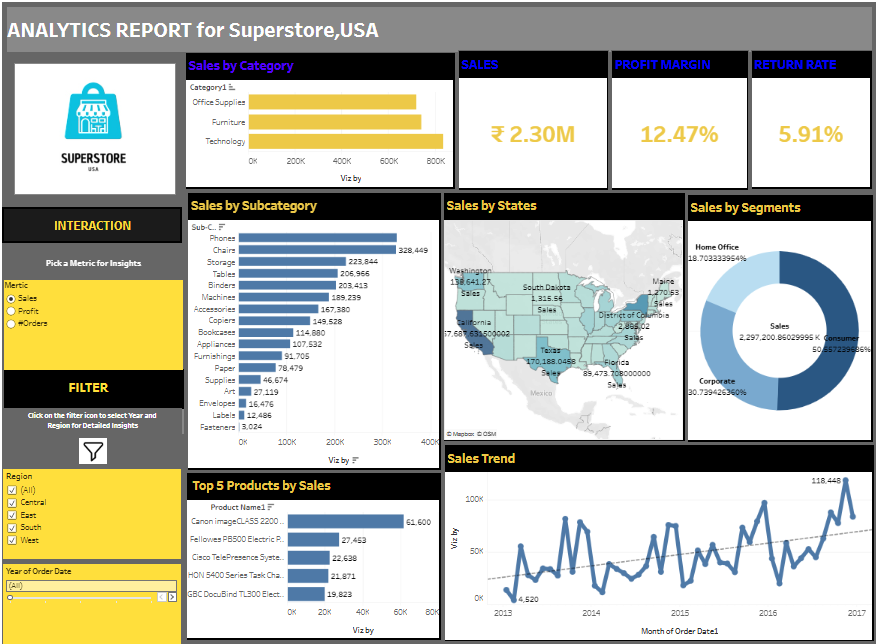

The dashboard page shown, as its layout file describes it:
{"tool":"tableau","page":{"name":"Superstore Dashboard","canvas":[1800,1200],"ordinal":1},"visuals":[{"type":"title","box":[53,28,1686,61]},{"type":"image","param":"Image/sakshi.PNG","box":[52,89,295,251]},{"type":"worksheet","title":"Sales by Category","mark":"Automatic","rows":["Category"],"cols":["Calculation_633037265075949571"],"box":[347,89,562,253]},{"type":"worksheet","title":"SALES","mark":"Automatic","box":[909,89,294,252]},{"type":"worksheet","title":"PROFIT MARGIN","mark":"Automatic","box":[1202,89,276,253]},{"type":"worksheet","title":"RETURN RATE","mark":"Automatic","box":[1477,89,261,253]},{"type":"text","box":[53,339,293,60]},{"type":"worksheet","title":"Sales by States","mark":"Automatic","box":[909,341,459,400]},{"type":"worksheet","title":"Sales by Segments","mark":"Pie","rows":["Calculation_51791438540623873","Calculation_51791438540718083"],"box":[1369,341,370,398]},{"type":"worksheet","title":"Sales by Subcategory","mark":"Automatic","rows":["Sub-Category"],"cols":["Calculation_633037265075949571"],"box":[346,342,564,470]},{"type":"text","box":[93,409,216,30]},{"type":"parameter","param":"[Parameters].[Parameter 7]","box":[53,457,292,143]},{"type":"text","box":[142,610,100,34]},{"type":"text","box":[54,663,293,37]},{"type":"dashboard-object","box":[174,702,46,30]},{"type":"filter","title":"Sales by Category","param":"[federated.1ujmcu00z8qgeg1dgngzl0v71cfd].[none:Region:nk]","box":[51,738,296,162]},{"type":"worksheet","title":"Sales Trend","mark":"Automatic","rows":["Calculation_633037265075949571"],"cols":["Order Date"],"box":[908,739,831,355]},{"type":"worksheet","title":" Top 5 Products by Sales","mark":"Automatic","rows":["Product Name"],"cols":["Calculation_633037265075949571"],"box":[346,812,562,283]},{"type":"dashboard-object","box":[178,909,45,32]},{"type":"filter","title":"Sales by Category","param":"[federated.1ujmcu00z8qgeg1dgngzl0v71cfd].[yr:Order Date:ok]","box":[52,952,294,118]},{"type":"image","param":"Image/hind1.PNG","box":[668,1119,44,37]}]}

Visuals, with their boxes on the page's 1800x1200 design canvas (x1, y1, x2, y2). These are canvas units, not pixel positions in the 876x644 screenshot, which may show the page scaled, cropped or inside an application window:
title: left=53, top=28, right=1739, bottom=89
image: left=52, top=89, right=347, bottom=340
"Sales by Category" worksheet: left=347, top=89, right=909, bottom=342
"SALES" worksheet: left=909, top=89, right=1203, bottom=341
"PROFIT MARGIN" worksheet: left=1202, top=89, right=1478, bottom=342
"RETURN RATE" worksheet: left=1477, top=89, right=1738, bottom=342
text: left=53, top=339, right=346, bottom=399
"Sales by States" worksheet: left=909, top=341, right=1368, bottom=741
"Sales by Segments" worksheet (Pie marks): left=1369, top=341, right=1739, bottom=739
"Sales by Subcategory" worksheet: left=346, top=342, right=910, bottom=812
text: left=93, top=409, right=309, bottom=439
parameter: left=53, top=457, right=345, bottom=600
text: left=142, top=610, right=242, bottom=644
text: left=54, top=663, right=347, bottom=700
dashboard-object: left=174, top=702, right=220, bottom=732
"Sales by Category" filter: left=51, top=738, right=347, bottom=900
"Sales Trend" worksheet: left=908, top=739, right=1739, bottom=1094
" Top 5 Products by Sales" worksheet: left=346, top=812, right=908, bottom=1095
dashboard-object: left=178, top=909, right=223, bottom=941
"Sales by Category" filter: left=52, top=952, right=346, bottom=1070
image: left=668, top=1119, right=712, bottom=1156
